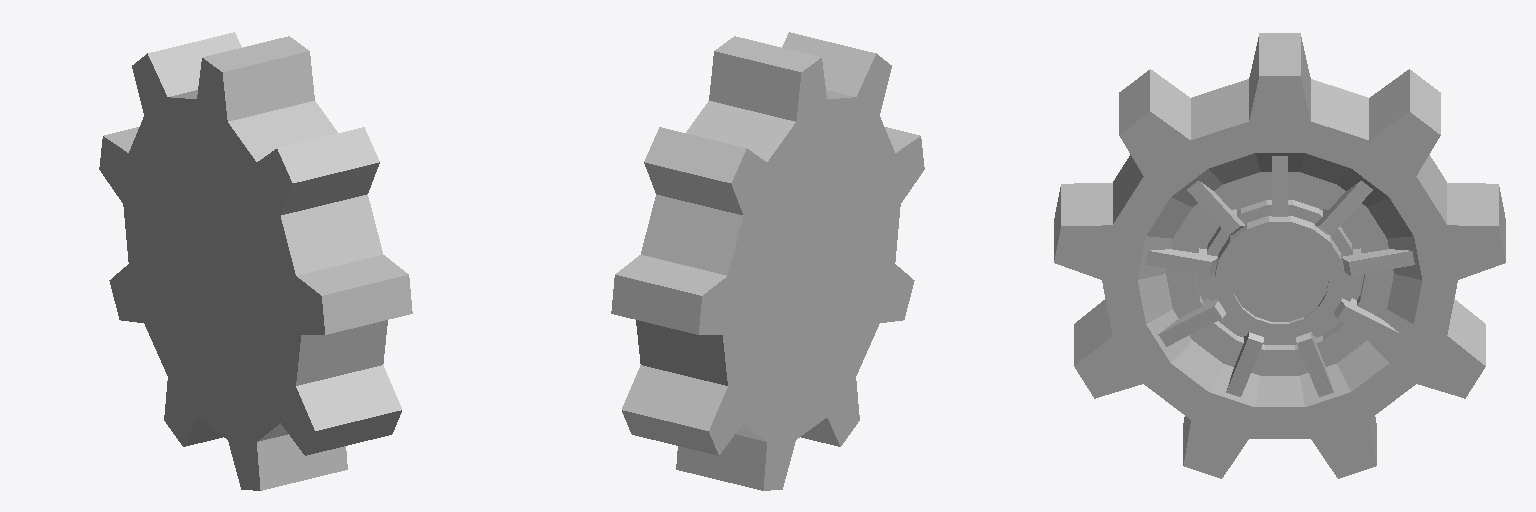
File: vault_cog.obj
The picture shows the model from 3 angles: view 1: azimuth 30°, elevation 25°; view 2: azimuth 150°, elevation 25°; view 3: azimuth 270°, elevation 25°; orthographic projection.
Visible parts, largest first — view 1: Cylinder; view 2: Cylinder; view 3: Cylinder.
Boxes of the visible parts, <box> form: Cylinder: <box>99,32,412,490</box>; Cylinder: <box>611,32,924,490</box>; Cylinder: <box>1054,33,1505,478</box>.
Bounding box in the file's own units: 1 × 4.41 × 4.48.